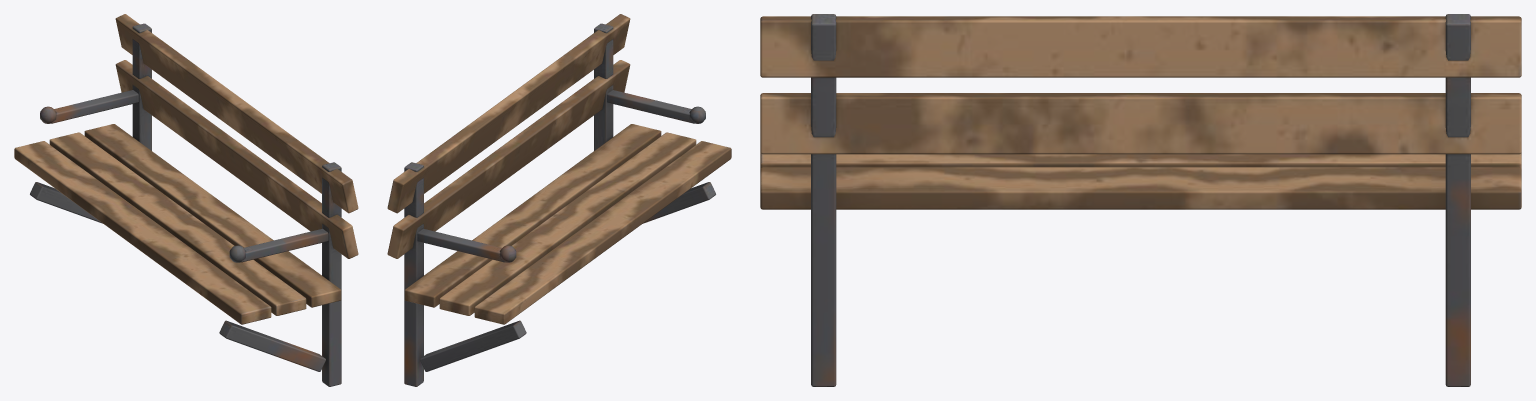
Rendered from station_bench.glb.
The picture shows the model from 3 angles, left to right: view 1: azimuth 30°, elevation 25°; view 2: azimuth 150°, elevation 25°; view 3: azimuth 270°, elevation 25°; orthographic projection. The views are drawn at different scales.
Visible parts, largest first — view 1: StationBench; view 2: StationBench; view 3: StationBench.
Boxes of the visible parts, x1=… form: StationBench: x1=14, y1=14, x2=358, y2=386; StationBench: x1=387, y1=14, x2=731, y2=386; StationBench: x1=760, y1=14, x2=1521, y2=386.
Bounding box in the file's own units: 0.5378 × 0.95 × 1.8.
2 materials, 2 textured.
